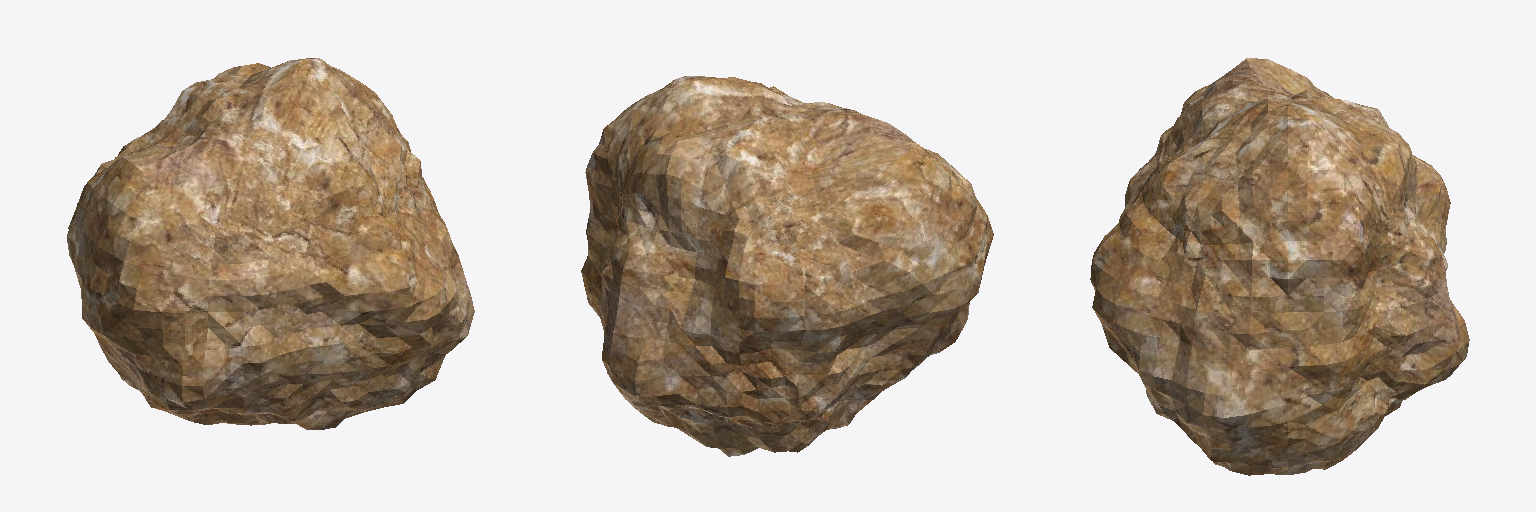
3 renders of one model, left to right at view 1: azimuth 30°, elevation 25°; view 2: azimuth 150°, elevation 25°; view 3: azimuth 270°, elevation 25°, orthographic.
Visible parts, largest first — view 1: Cube; view 2: Cube; view 3: Cube.
Boxes of the visible parts, x1,y1,x2,y2 form: Cube: [67, 58, 474, 429]; Cube: [581, 76, 993, 456]; Cube: [1090, 58, 1469, 475].
Size of the model in its own units: 1.88 by 1.66 by 1.67.
Materials: 1 (1 with a texture image).